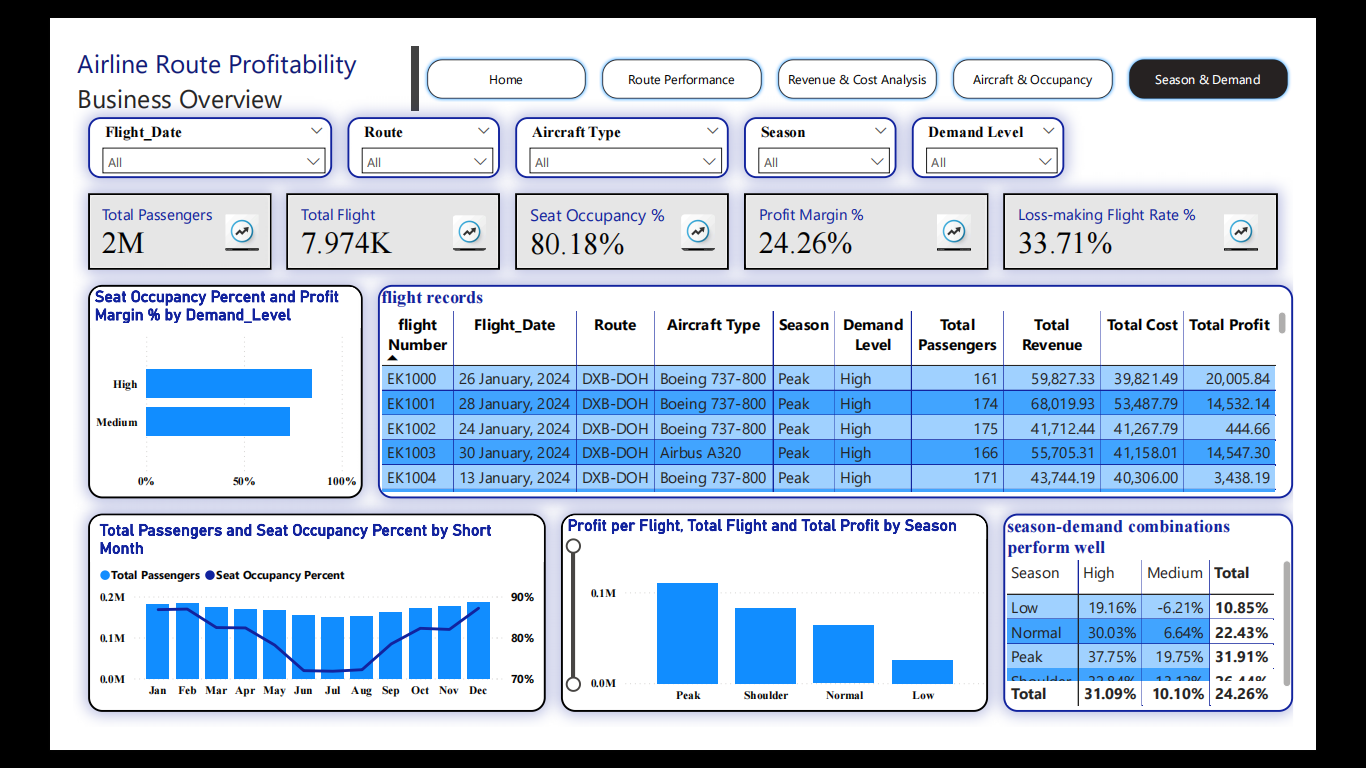

What the dashboard file says about the page in this screenshot:
{"tool":"powerbi","page":{"name":"Season & Demand","canvas":[1280,720],"ordinal":4},"visuals":[{"type":"textbox","box":[0,0,368,80],"z":0},{"type":"slicer","fields":{"Values":["airline_route_profitability.Flight_Date"]},"box":[16,80,256,64],"z":6000},{"type":"slicer","fields":{"Values":["airline_route_profitability.Route"]},"box":[288,80,160,64],"z":7000},{"type":"slicer","fields":{"Values":["airline_route_profitability.Aircraft_Type"]},"box":[464,80,224,64],"z":8000},{"type":"cardVisual","fields":{"Data":["airline_route_profitability.Total Passengers"]},"box":[16,160,192,80],"z":9000},{"type":"cardVisual","fields":{"Data":["Count(airline_route_profitability.Flight_Number)"]},"box":[224,160,224,80],"z":10000},{"type":"cardVisual","fields":{"Data":["airline_route_profitability.Seat Occupancy Percent"]},"box":[464,160,224,80],"z":11000},{"type":"cardVisual","fields":{"Data":["airline_route_profitability.Profit Margin %"]},"box":[704,160,256,80],"z":12000},{"type":"cardVisual","fields":{"Data":["airline_route_profitability.Loss-making Flight Rate %"]},"box":[976,160,288,80],"z":13000},{"type":"lineClusteredColumnComboChart","fields":{"Category":["airline_route_profitability.Shortt Month"],"Y":["airline_route_profitability.Total Passengers"],"Y2":["airline_route_profitability.Seat Occupancy Percent"]},"box":[16,496,480,208],"z":14000},{"type":"clusteredBarChart","fields":{"Y":["airline_route_profitability.Seat Occupancy Percent"],"Category":["airline_route_profitability.Demand_Level"]},"box":[16,256,288,224],"z":15000},{"type":"pivotTable","title":"season-demand\ncombinations perform well","fields":{"Values":["airline_route_profitability.Profit Margin %"],"Rows":["airline_route_profitability.Season"],"Columns":["airline_route_profitability.Demand_Level"]},"box":[976,496,304,208],"z":16000},{"type":"lineClusteredColumnComboChart","fields":{"Category":["airline_route_profitability.Season"],"Y":["airline_route_profitability.Profit per Flight"]},"box":[512,496,448,208],"z":17000},{"type":"tableEx","title":"flight records ","fields":{"Values":["airline_route_profitability.Flight_Number","airline_route_profitability.Flight_Date","airline_route_profitability.Route","airline_route_profitability.Aircraft_Type","airline_route_profitability.Season","airline_route_profitability.Demand_Level","Sum(airline_route_profitability.Passengers)","airline_route_profitability.Total Revenue","airline_route_profitability.Total Cost","Sum(airline_route_profitability.Profit)"]},"box":[320,256,960,224],"z":18000},{"type":"slicer","fields":{"Values":["airline_route_profitability.Season"]},"box":[704,80,160,64],"z":19000},{"type":"slicer","fields":{"Values":["airline_route_profitability.Demand_Level"]},"box":[880,80,160,64],"z":20000},{"type":"pageNavigator","box":[368,16,912,48],"z":20001}]}

Visuals, with their boxes in screenshot pixels (x1, y1, x2, y2), scaled from the page's 1280x720 canvas onto the 1366x768 screenshot:
textbox: 0/0/393/85
slicer - airline_route_profitability.Flight_Date: 17/85/290/154
slicer - airline_route_profitability.Route: 307/85/478/154
slicer - airline_route_profitability.Aircraft_Type: 495/85/734/154
cardVisual - airline_route_profitability.Total Passengers: 17/171/222/256
cardVisual - Count(airline_route_profitability.Flight_Number): 239/171/478/256
cardVisual - airline_route_profitability.Seat Occupancy Percent: 495/171/734/256
cardVisual - airline_route_profitability.Profit Margin %: 751/171/1024/256
cardVisual - airline_route_profitability.Loss-making Flight Rate %: 1042/171/1349/256
lineClusteredColumnComboChart - airline_route_profitability.Shortt Month x airline_route_profitability.Total Passengers: 17/529/529/751
clusteredBarChart - airline_route_profitability.Seat Occupancy Percent x airline_route_profitability.Demand_Level: 17/273/324/512
"season-demand
combinations perform well" pivotTable: 1042/529/1365/751
lineClusteredColumnComboChart - airline_route_profitability.Season x airline_route_profitability.Profit per Flight: 546/529/1024/751
"flight records " tableEx: 342/273/1365/512
slicer - airline_route_profitability.Season: 751/85/922/154
slicer - airline_route_profitability.Demand_Level: 939/85/1110/154
pageNavigator: 393/17/1365/68
